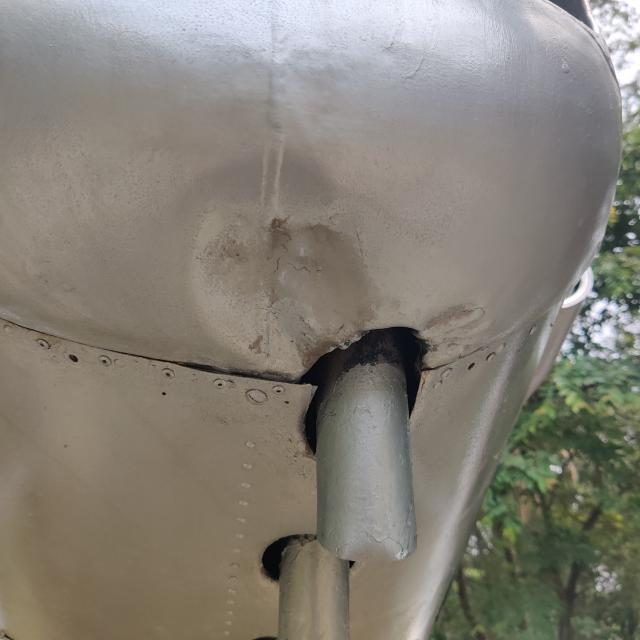Dent: (157, 170, 405, 380), (410, 303, 497, 368)
